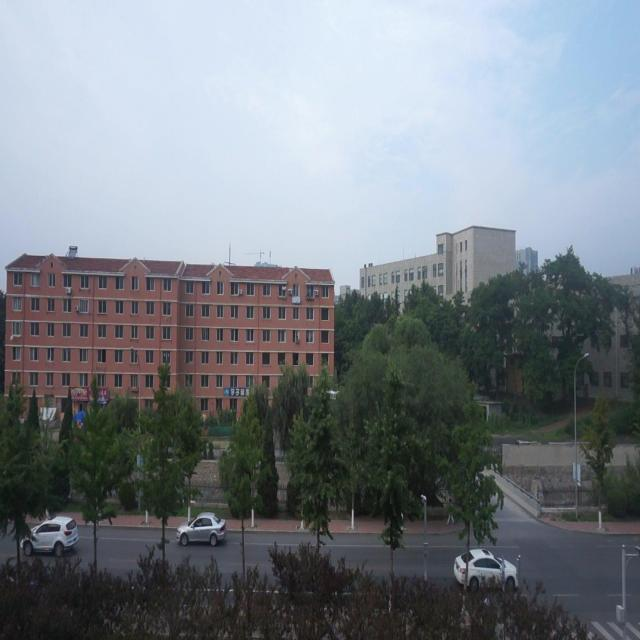UAV: (326, 390, 340, 399)
